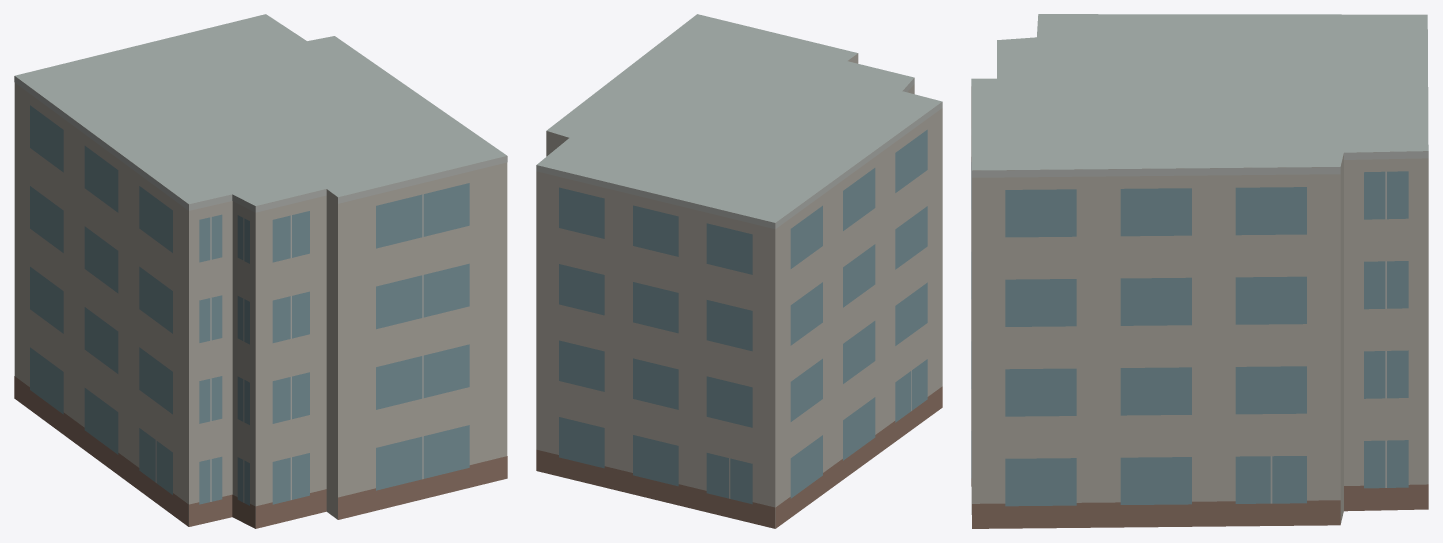
File: survey-upis-33018006.glb
The picture shows the model from 3 angles, left to right: view 1: azimuth 30°, elevation 25°; view 2: azimuth 150°, elevation 25°; view 3: azimuth 270°, elevation 25°; orthographic projection. The views are drawn at different scales.
Parts seen in each view (by area): view 1: survey-upis-33018006.tmp; view 2: survey-upis-33018006.tmp; view 3: survey-upis-33018006.tmp.
Part boxes in pixels (x1,y1,x2,y2): survey-upis-33018006.tmp: [14, 14, 507, 528]; survey-upis-33018006.tmp: [536, 14, 942, 528]; survey-upis-33018006.tmp: [971, 14, 1428, 528].
Bounding box in the file's own units: 11.15 × 11.9 × 13.77.
